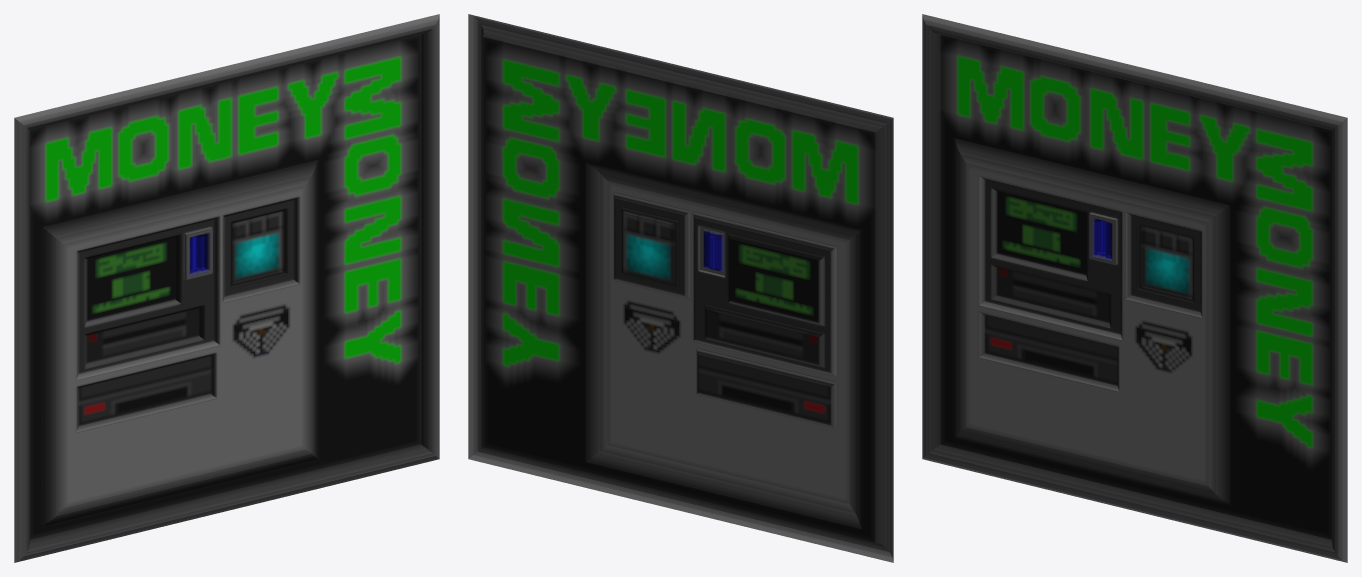
File: exec4_1.fbx
The picture shows the model from 3 angles, left to right: view 1: azimuth 30°, elevation 25°; view 2: azimuth 150°, elevation 25°; view 3: azimuth 330°, elevation 25°; orthographic projection.
Visible parts, largest first — view 1: exec4_1; view 2: exec4_1; view 3: exec4_1.
Part boxes in pixels (box(x1,y1,x2,y2)): exec4_1: box(14, 14, 439, 562); exec4_1: box(468, 14, 893, 562); exec4_1: box(922, 14, 1347, 562).
Bounding box in the file's own units: 256 × 256 × 4.95.
